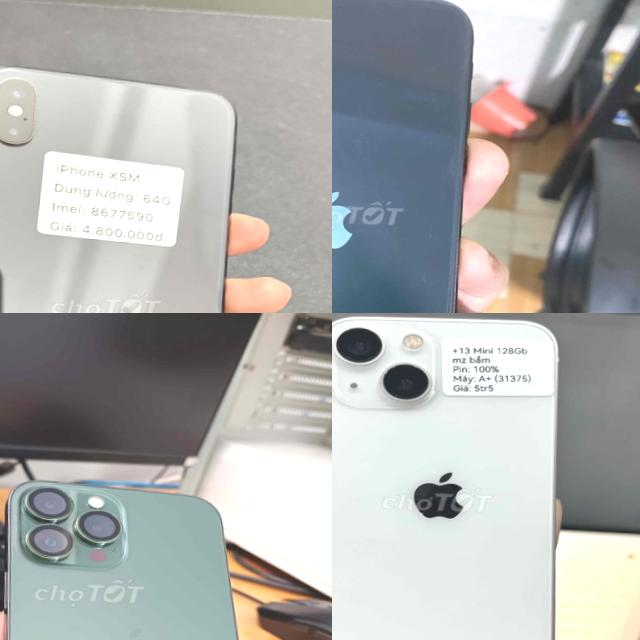scratch: (410, 265, 432, 313), (418, 223, 436, 242), (29, 102, 41, 114)
